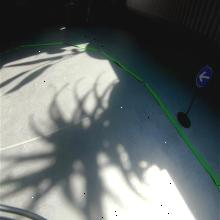left: (195, 63, 212, 88)
